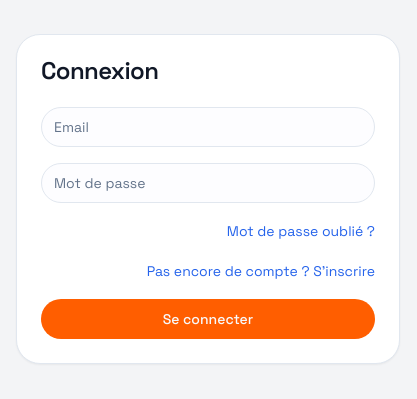
LoginPage › handles generic error with fallback message
In the field with placeholder "Email": (208, 127) [41,107,375,147], type "error@test.com"
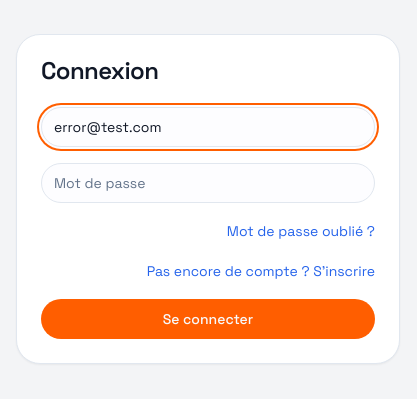
In the password field with placeholder "Mot de passe": (208, 183) [41,163,375,203], type "any"
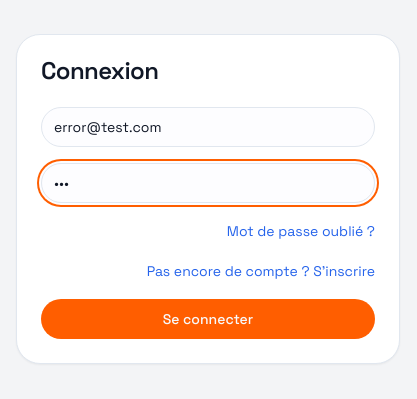
Click the button "Se connecter": (208, 319) [41,299,375,339]
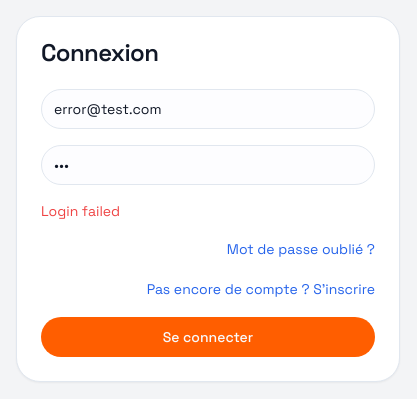
Expected: the text "Login failed" is shown, [41,202,120,220]
